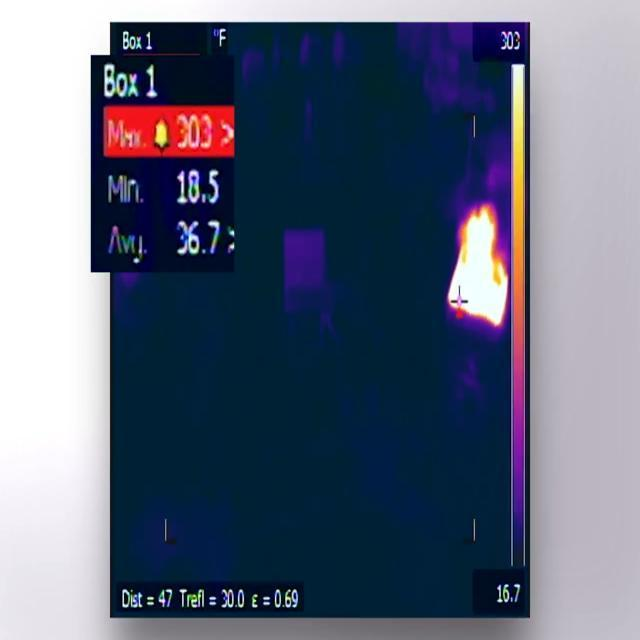fire: (447, 203, 511, 332)
